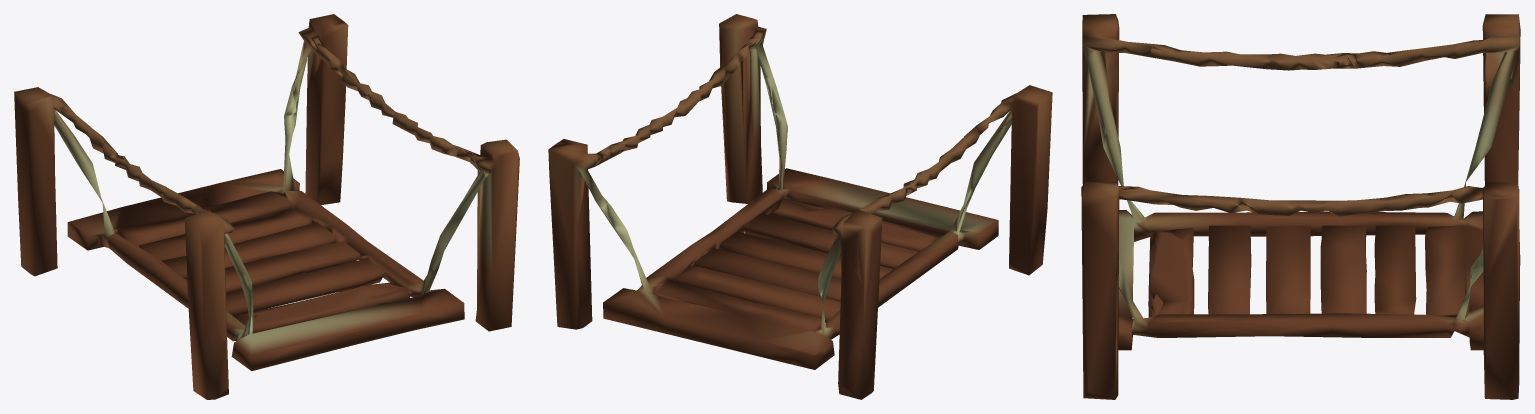
The model's file is gen3d-wooden-rope-bridge-lod1.glb.
3 views of the same model, side by side, from view 1: azimuth 30°, elevation 25°; view 2: azimuth 150°, elevation 25°; view 3: azimuth 270°, elevation 25° (orthographic). The views are drawn at different scales.
Parts seen in each view (by area): view 1: part_0; view 2: part_0; view 3: part_0.
Part boxes in pixels (bbox=[...]): part_0: bbox=[14, 14, 519, 399]; part_0: bbox=[548, 14, 1052, 399]; part_0: bbox=[1081, 14, 1520, 399].
Bounding box in the file's own units: 1.9 × 0.9985 × 1.91.
